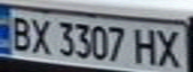0: (90, 23, 109, 62)
3: (51, 18, 75, 58), (72, 20, 93, 60)
7: (106, 24, 130, 63)
B: (3, 12, 36, 53)
H: (130, 25, 163, 66)
X: (151, 27, 187, 69), (24, 15, 54, 56)
